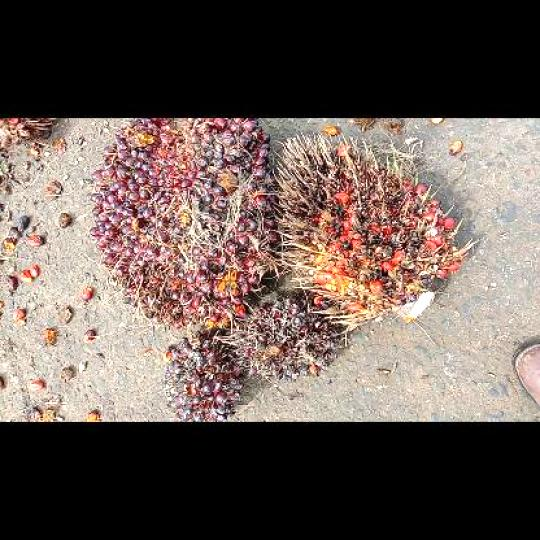masak: (87, 120, 276, 329)
terlalu masak: (270, 134, 465, 333)
